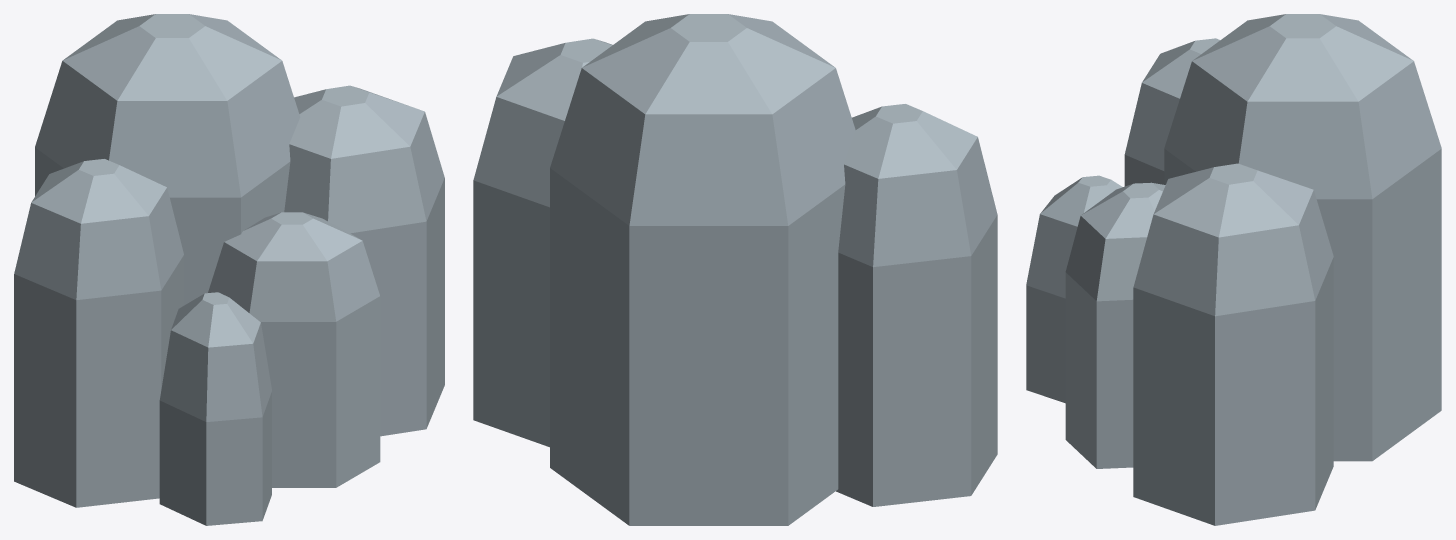
Rendered from Rock_14.fbx.
The picture shows the model from 3 angles, left to right: view 1: azimuth 30°, elevation 25°; view 2: azimuth 150°, elevation 25°; view 3: azimuth 270°, elevation 25°; orthographic projection. The views are drawn at different scales.
Visible parts, largest first — view 1: Cylinder.010; view 2: Cylinder.010; view 3: Cylinder.010.
Part boxes in pixels (x1,y1,x2,y2): Cylinder.010: [14, 14, 444, 525]; Cylinder.010: [473, 14, 997, 525]; Cylinder.010: [1026, 14, 1441, 525].
Bounding box in the file's own units: 2.55 × 2.24 × 2.16.
